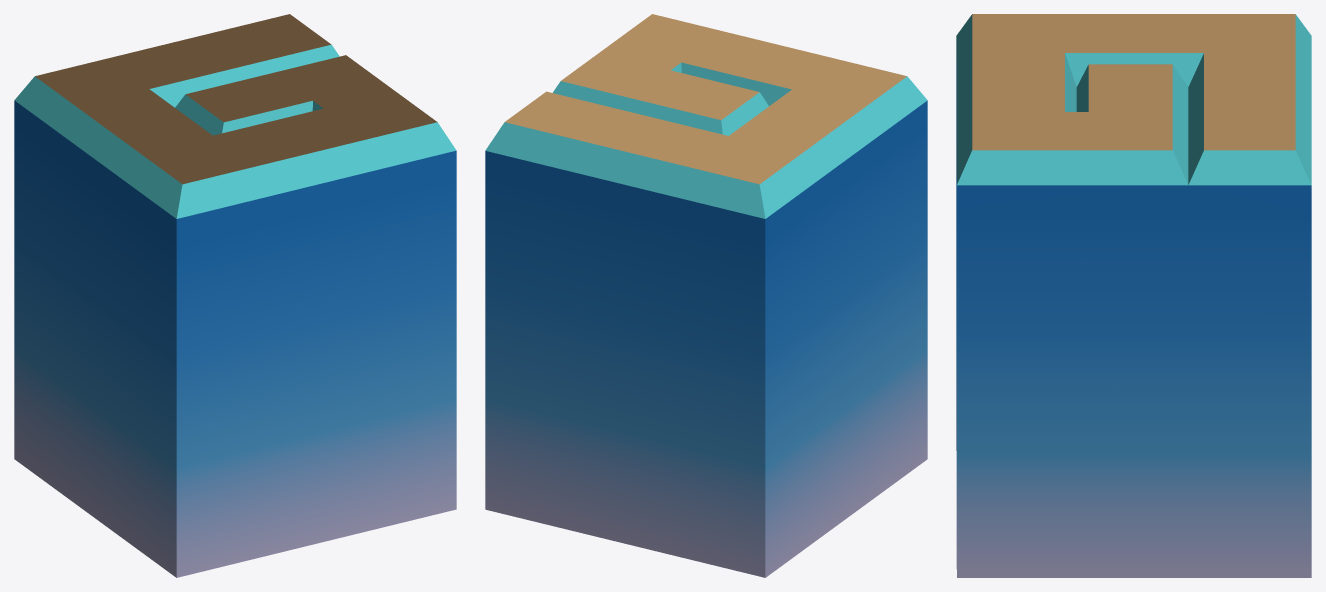
The picture shows the model from 3 angles, left to right: view 1: azimuth 30°, elevation 25°; view 2: azimuth 150°, elevation 25°; view 3: azimuth 270°, elevation 25°; orthographic projection. The views are drawn at different scales.
Parts seen in each view (by area): view 1: Joint_0_Object_0, Joint_0_Object_1; view 2: Joint_0_Object_0, Joint_0_Object_1; view 3: Joint_0_Object_0, Joint_0_Object_1.
Boxes of the visible parts, bbox=[...] form: Joint_0_Object_0: bbox=[14, 44, 456, 577]; Joint_0_Object_1: bbox=[35, 14, 437, 184]; Joint_0_Object_0: bbox=[485, 62, 927, 577]; Joint_0_Object_1: bbox=[505, 14, 906, 184]; Joint_0_Object_0: bbox=[956, 14, 1311, 577]; Joint_0_Object_1: bbox=[972, 14, 1295, 150].
Bounding box in the file's own units: 107 × 141 × 107.
